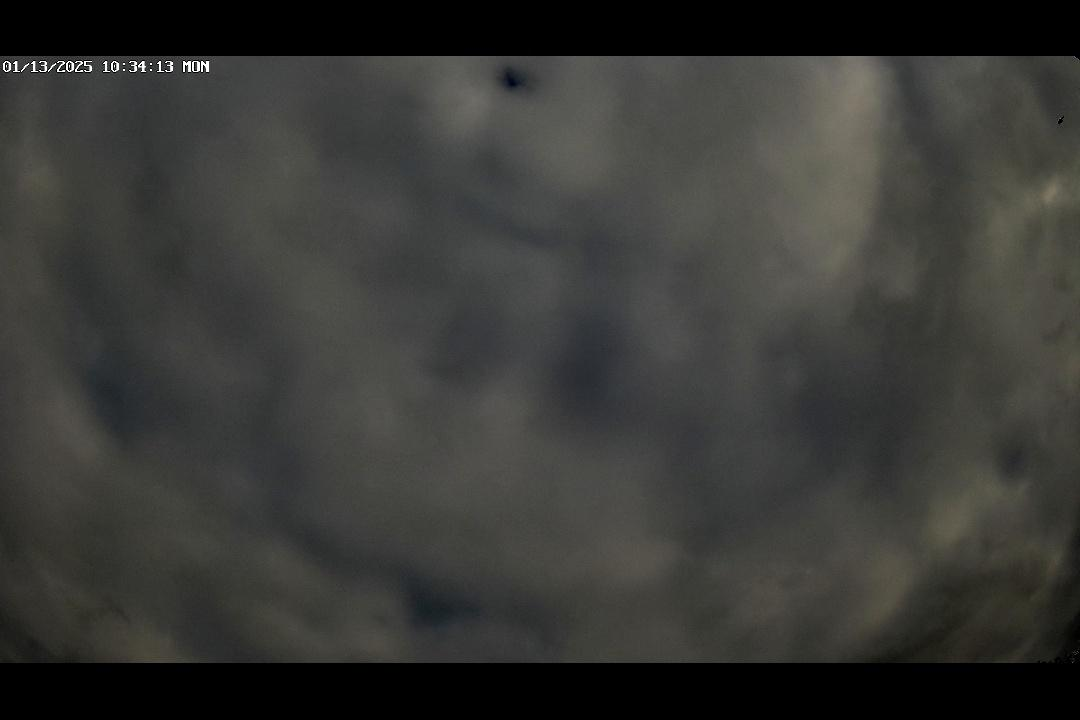WildLife: (1051, 117, 1067, 127)
